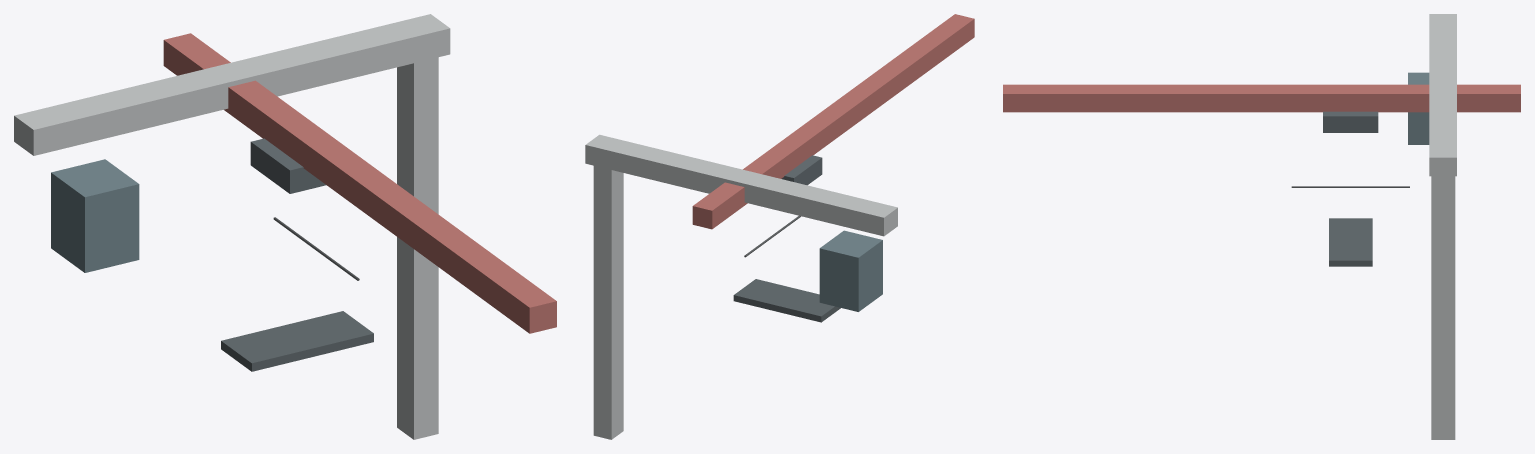
The model's file is portainer-lod0.glb.
3 renders of one model, left to right at view 1: azimuth 30°, elevation 25°; view 2: azimuth 150°, elevation 25°; view 3: azimuth 270°, elevation 25°, orthographic. The views are drawn at different scales.
Visible parts, largest first — view 1: girder, boom, leg, cab, spreader, trolley; view 2: girder, boom, leg, cab, spreader, trolley; view 3: boom, leg, girder, spreader, trolley, cab.
Part boxes in pixels (left/top/right/bottom): girder: left=14, top=14, right=450, bottom=155; boom: left=163, top=33, right=556, bottom=333; leg: left=397, top=57, right=438, bottom=439; cab: left=51, top=159, right=139, bottom=272; spreader: left=221, top=311, right=373, bottom=371; trolley: left=250, top=138, right=326, bottom=193; girder: left=585, top=134, right=897, bottom=236; boom: left=692, top=14, right=974, bottom=229; leg: left=593, top=166, right=623, bottom=439; cab: left=819, top=230, right=882, bottom=311; spreader: left=733, top=279, right=840, bottom=322; trolley: left=781, top=155, right=822, bottom=185; boom: left=1003, top=84, right=1520, bottom=112; leg: left=1431, top=176, right=1455, bottom=439; girder: left=1429, top=14, right=1456, bottom=176; spreader: left=1329, top=218, right=1372, bottom=266; trolley: left=1323, top=111, right=1378, bottom=132; cab: left=1408, top=72, right=1429, bottom=144.
Size of the model in its own units: 9.2 by 8.52 by 14.
